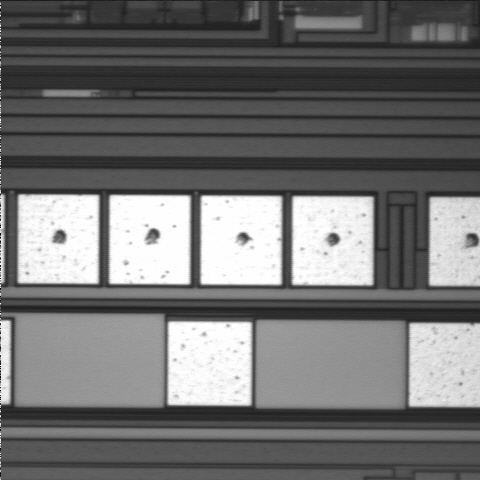pad: (18, 195, 99, 284), (109, 195, 190, 284), (201, 196, 282, 285), (292, 196, 373, 285), (168, 321, 252, 405)
